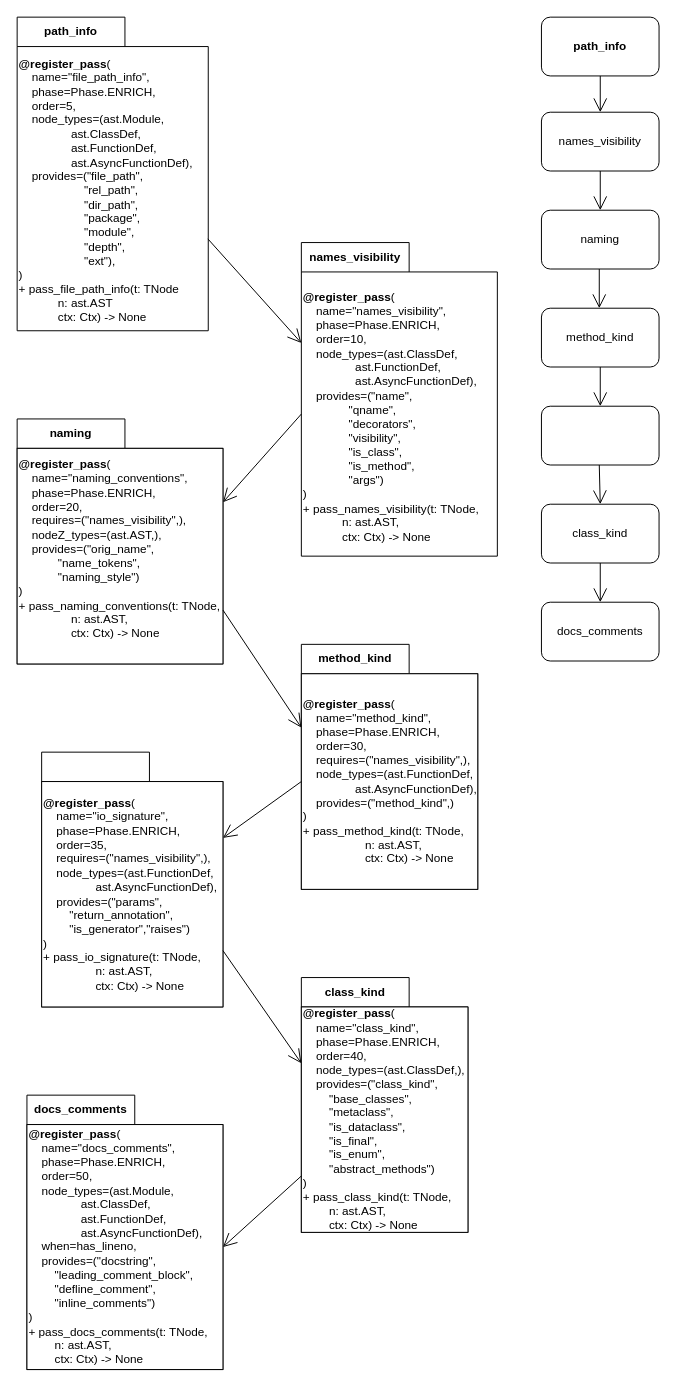
Some shapes in this 676 by 1387 pixel diagram are drawn without their labels. Here are the shapes that lost their labels. From the top down, the centre of each, then its label:
At pixel 599 435: "to_signature".
At pixel 132 879: "io_signature".
